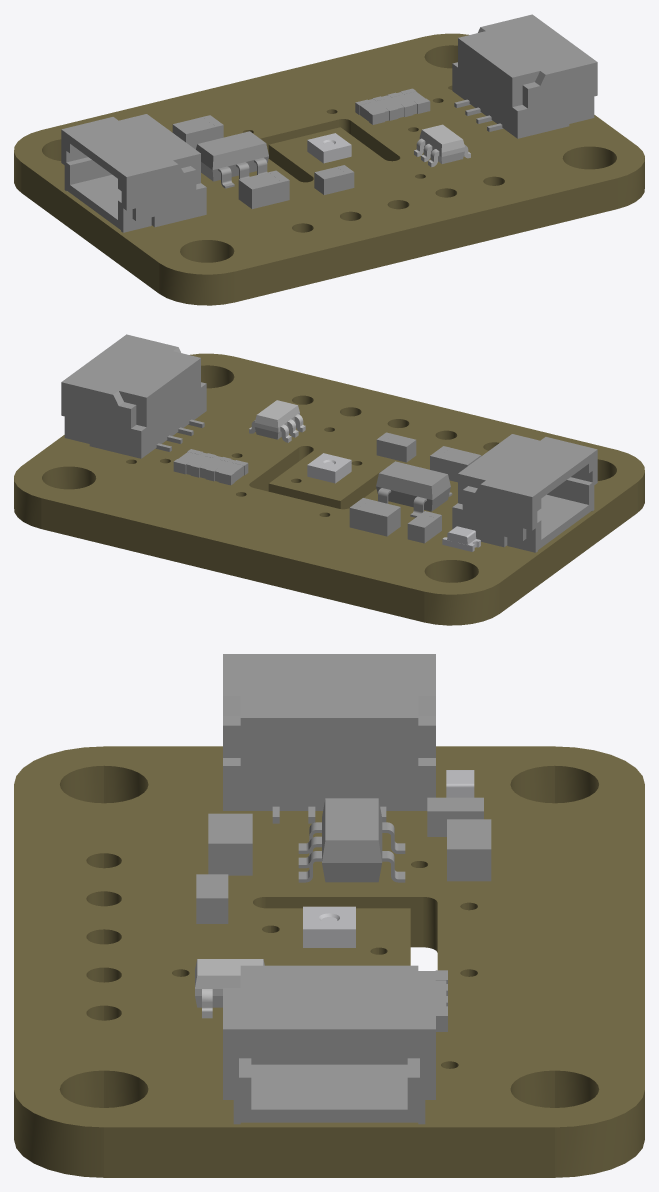
Rendered from ada-4885.glb.
3 renders of one model, top to bottom at view 1: azimuth 30°, elevation 25°; view 2: azimuth 150°, elevation 25°; view 3: azimuth 270°, elevation 25°, orthographic. The views are drawn at different scales.
Parts seen in each view (by area): view 1: 0.16666666666666666_0.16666666666666666_0.08333333333333333_, 0.3333333333333333_0.3333333333333333_0.3333333333333333_0, 0.5_0.5_0.5_0.85, 0.5833333333333334_0.5833333333333334_0.5833333333333334_0.8; view 2: 0.16666666666666666_0.16666666666666666_0.08333333333333333_, 0.3333333333333333_0.3333333333333333_0.3333333333333333_0, 0.5833333333333334_0.5833333333333334_0.5833333333333334_0.8, 0.5_0.5_0.5_0.85; view 3: 0.16666666666666666_0.16666666666666666_0.08333333333333333_, 0.3333333333333333_0.3333333333333333_0.3333333333333333_0, 0.5833333333333334_0.5833333333333334_0.5833333333333334_0.8, 0.5_0.5_0.5_0.85.
Boxes of the visible parts, bbox=[...] form: 0.16666666666666666_0.16666666666666666_0.08333333333333333_: bbox=[14, 33, 644, 305]; 0.3333333333333333_0.3333333333333333_0.3333333333333333_0: bbox=[61, 14, 597, 232]; 0.5_0.5_0.5_0.85: bbox=[414, 124, 470, 167]; 0.5833333333333334_0.5833333333333334_0.5833333333333334_0.8: bbox=[307, 133, 351, 163]; 0.16666666666666666_0.16666666666666666_0.08333333333333333_: bbox=[14, 353, 644, 625]; 0.3333333333333333_0.3333333333333333_0.3333333333333333_0: bbox=[61, 334, 597, 552]; 0.5833333333333334_0.5833333333333334_0.5833333333333334_0.8: bbox=[307, 453, 480, 551]; 0.5_0.5_0.5_0.85: bbox=[249, 400, 305, 442]; 0.16666666666666666_0.16666666666666666_0.08333333333333333_: bbox=[14, 746, 644, 1177]; 0.3333333333333333_0.3333333333333333_0.3333333333333333_0: bbox=[196, 654, 491, 1124]; 0.5833333333333334_0.5833333333333334_0.5833333333333334_0.8: bbox=[303, 770, 474, 947]; 0.5_0.5_0.5_0.85: bbox=[195, 959, 264, 1018].
Bounding box in the file's own units: 2.54 × 0.4529 × 1.78.
